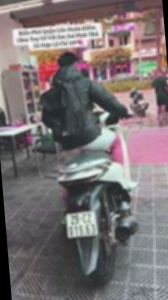Bien-so: (65, 210, 102, 238)
